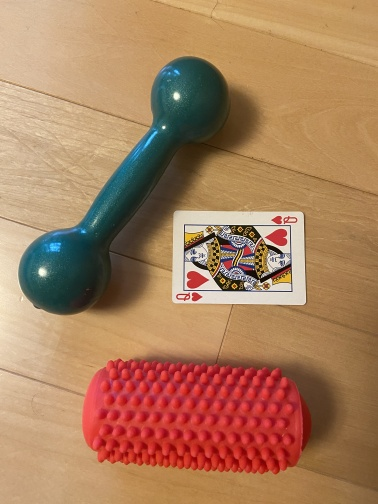queen: (170, 210, 307, 306)
